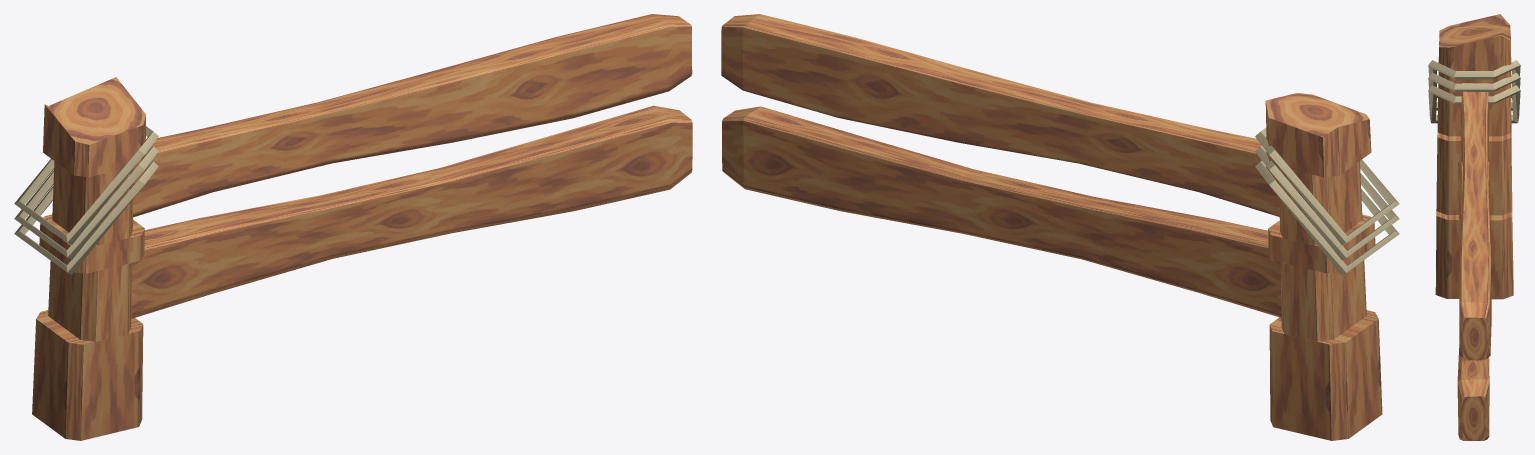
Rendered from fence_w_250_b.glb.
3 views of the same model, side by side, from view 1: azimuth 30°, elevation 25°; view 2: azimuth 150°, elevation 25°; view 3: azimuth 270°, elevation 25° (orthographic). The views are drawn at different scales.
Visible parts, largest first — view 1: fence_w_250_b; view 2: fence_w_250_b; view 3: fence_w_250_b.
Boxes of the visible parts, x1=… form: fence_w_250_b: x1=14, y1=14, x2=692, y2=440; fence_w_250_b: x1=721, y1=14, x2=1399, y2=440; fence_w_250_b: x1=1428, y1=14, x2=1520, y2=440.
Bounding box in the file's own units: 2.7 × 1.27 × 0.3989.
1 material, 1 textured.
